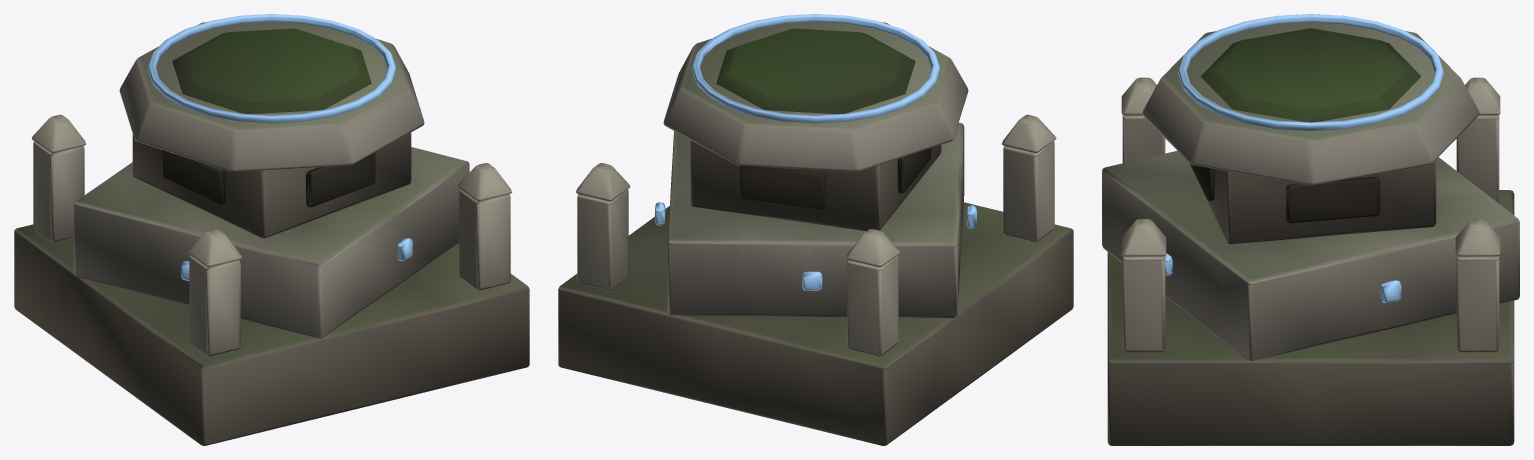
Rendered from shrine_pedestal.glb.
3 renders of one model, left to right at view 1: azimuth 30°, elevation 25°; view 2: azimuth 150°, elevation 25°; view 3: azimuth 270°, elevation 25°, orthographic. The views are drawn at different scales.
Parts seen in each view (by area): view 1: shrine_pedestal; view 2: shrine_pedestal; view 3: shrine_pedestal.
Part boxes in pixels (x1,y1,x2,y2): shrine_pedestal: [14, 14, 529, 445]; shrine_pedestal: [558, 14, 1073, 445]; shrine_pedestal: [1102, 14, 1519, 445].
Bounding box in the file's own units: 1.95 × 1.51 × 1.95.
